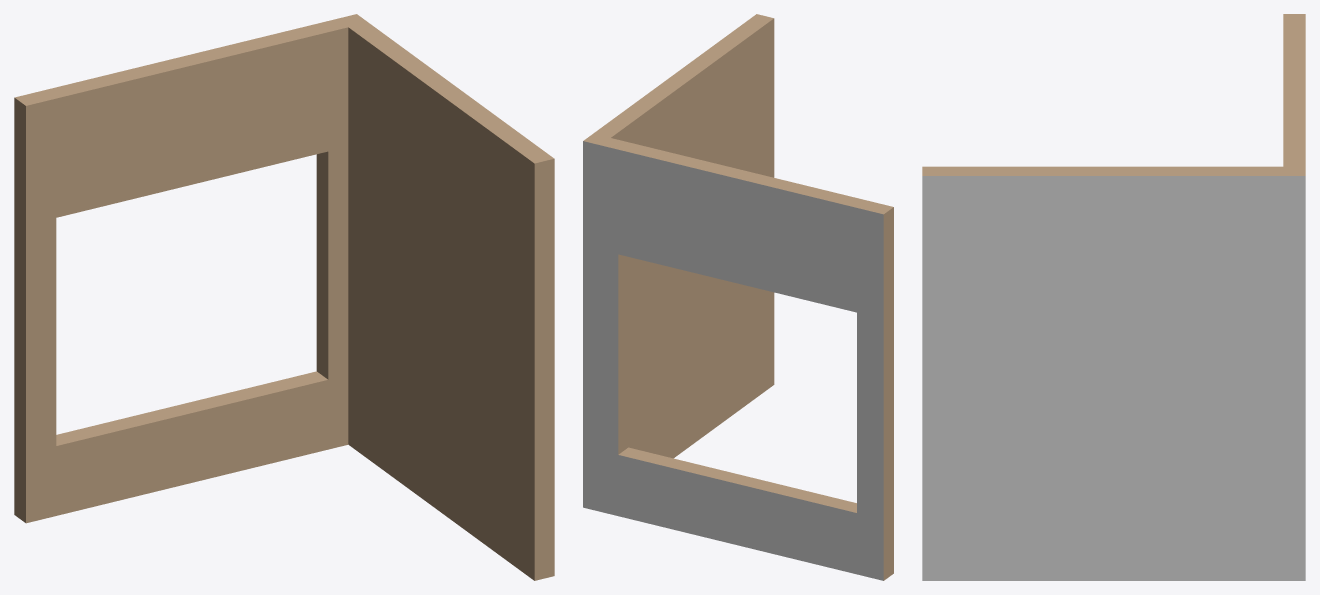
Rendered from Wall1_C2_13.fbx.
3 renders of one model, left to right at view 1: azimuth 30°, elevation 25°; view 2: azimuth 150°, elevation 25°; view 3: azimuth 270°, elevation 25°, orthographic. The views are drawn at different scales.
Parts seen in each view (by area): view 1: Wall1_C2_13; view 2: Wall1_C2_13; view 3: Wall1_C2_13.
Boxes of the visible parts, left/top/right/bottom form: Wall1_C2_13: left=14, top=14, right=554, bottom=580; Wall1_C2_13: left=583, top=14, right=893, bottom=580; Wall1_C2_13: left=922, top=14, right=1305, bottom=580.
Size of the model in its own units: 258 by 300 by 258.
